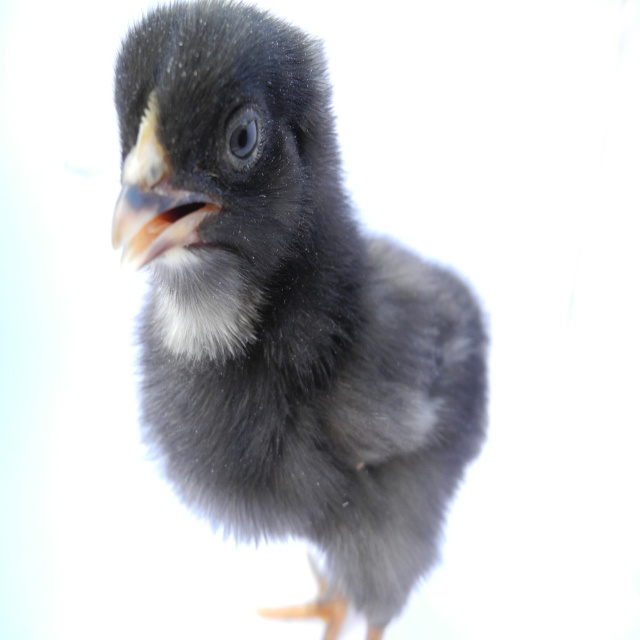Chicken: (107, 0, 488, 639)
